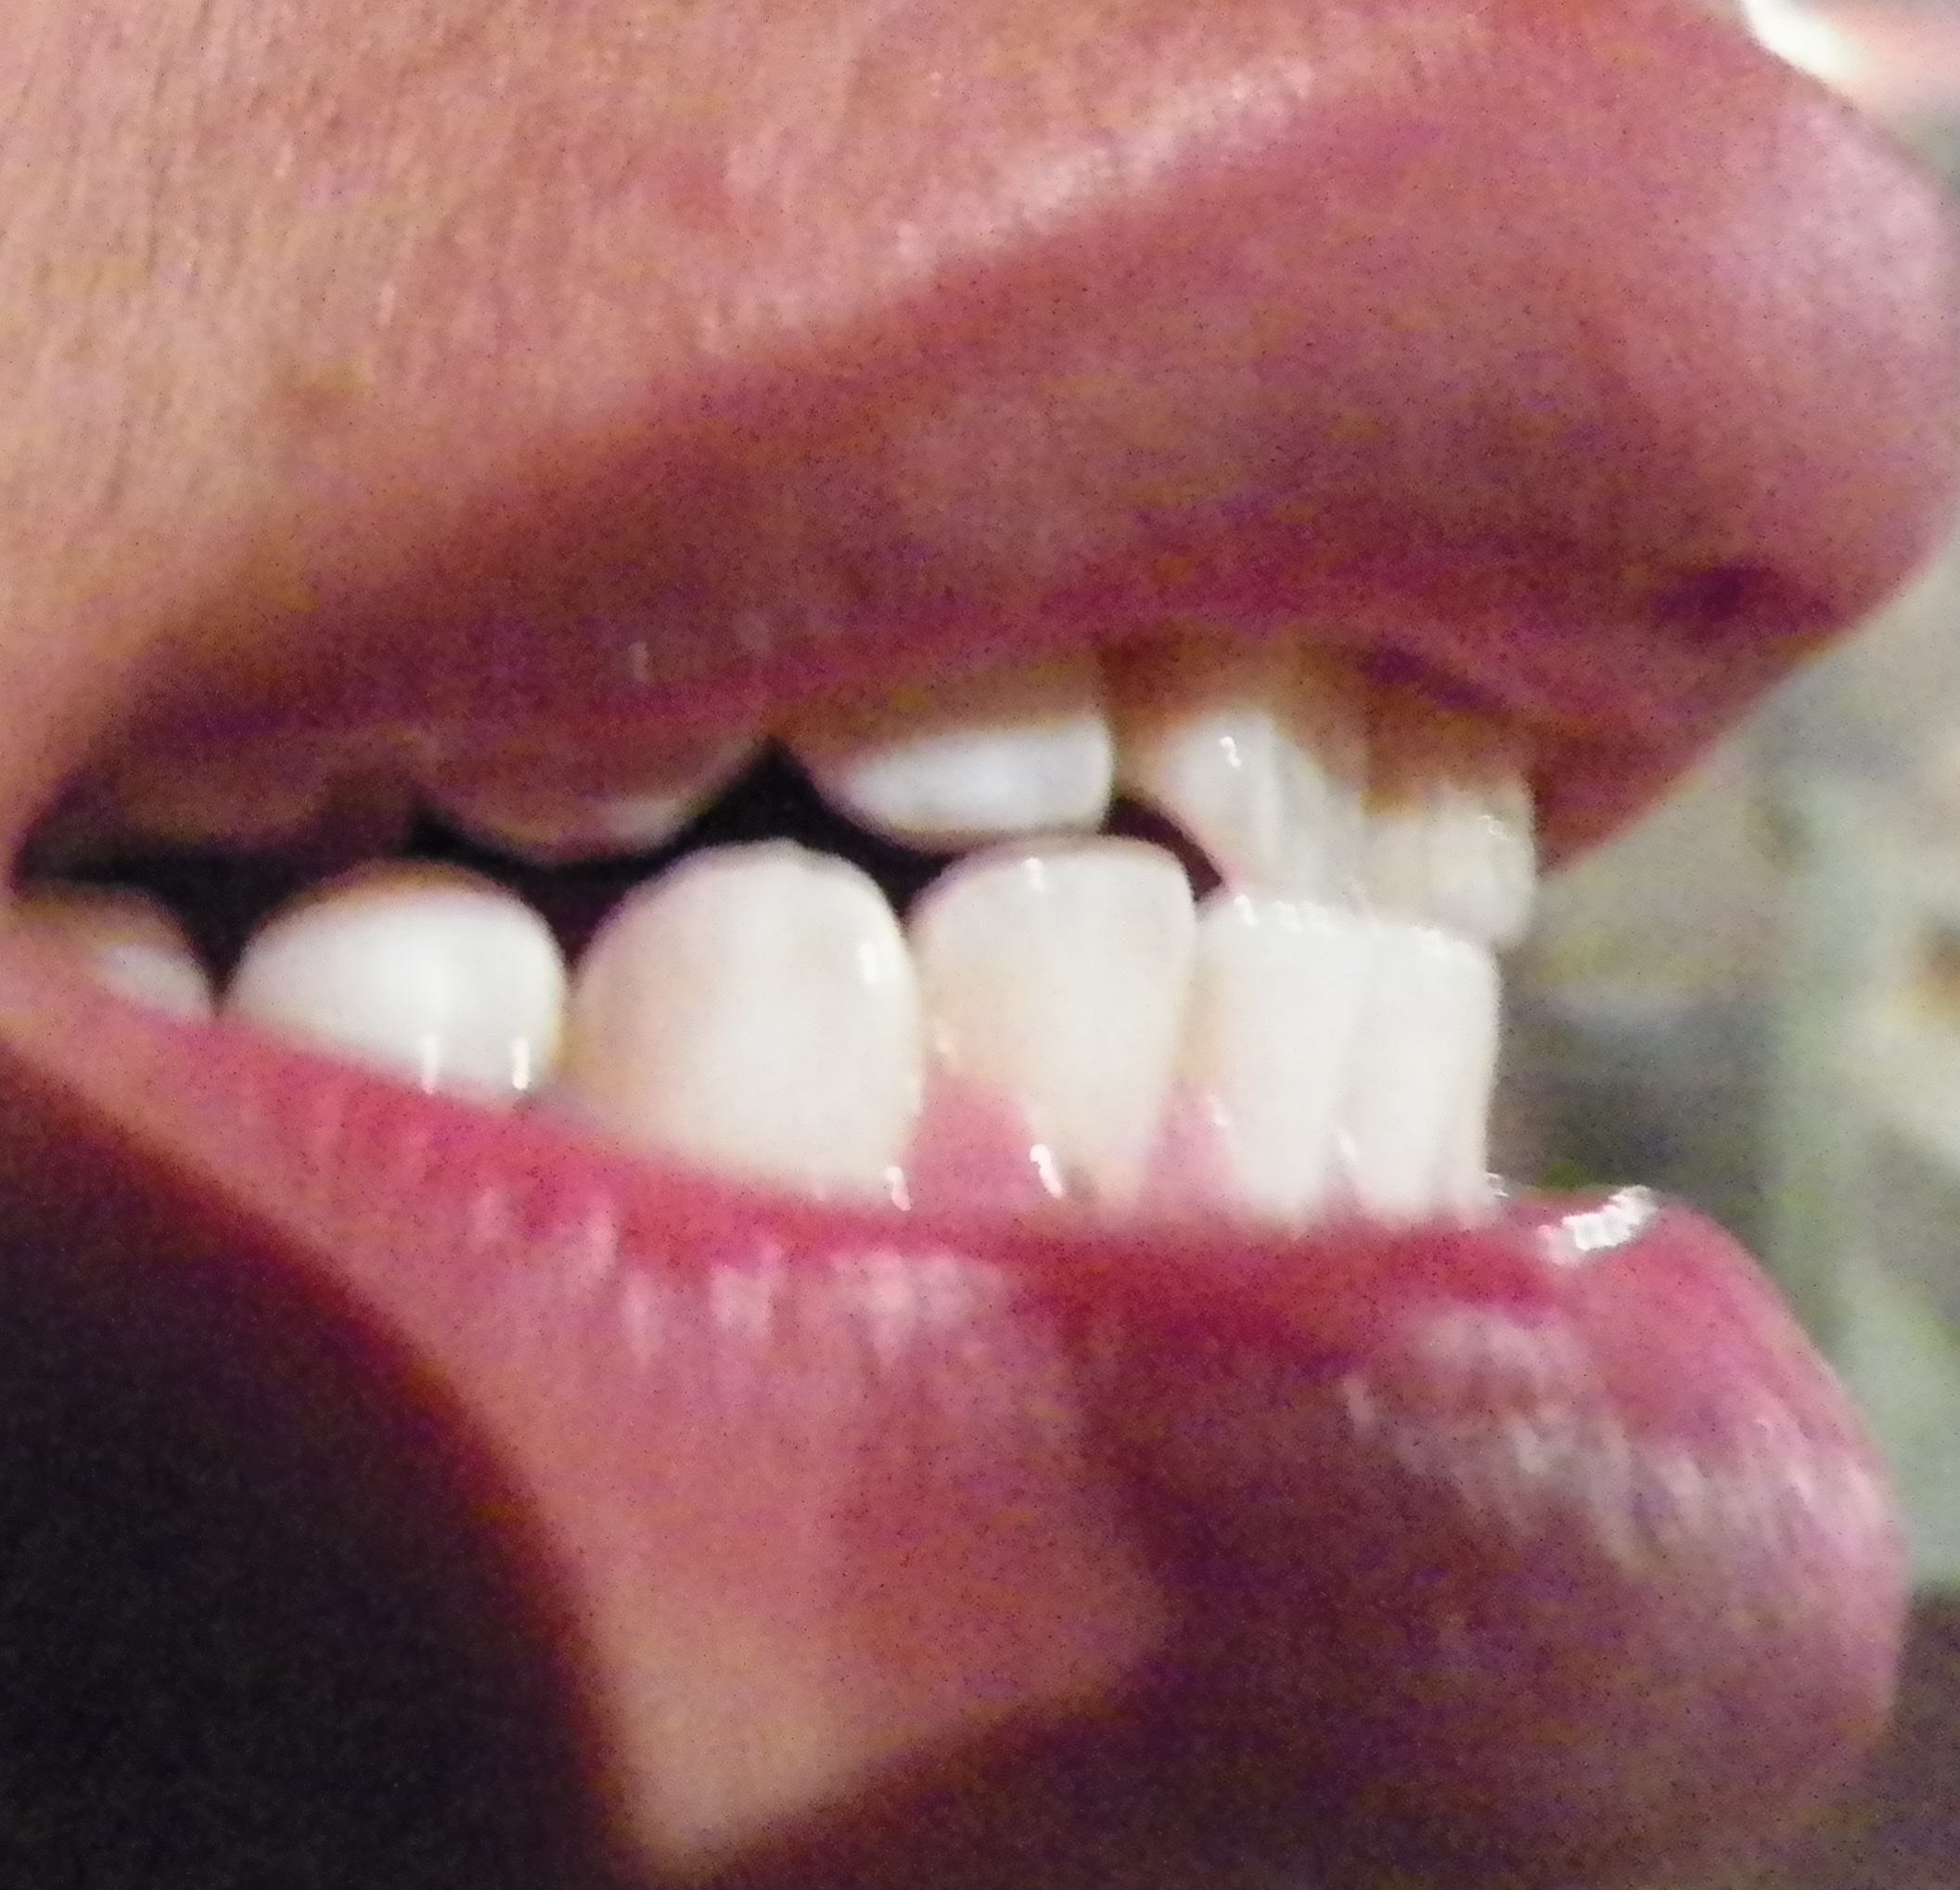boca: (136, 649, 1556, 1183)
